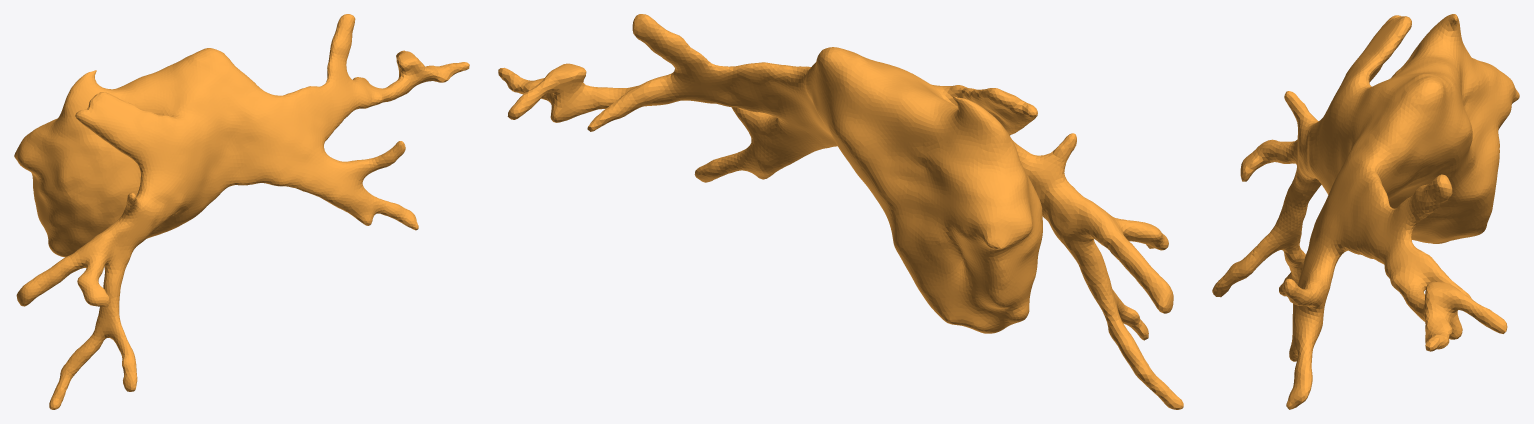
File: leftatriumWEBGL.glb
3 renders of one model, left to right at view 1: azimuth 30°, elevation 25°; view 2: azimuth 150°, elevation 25°; view 3: azimuth 270°, elevation 25°, orthographic. The views are drawn at different scales.
Parts seen in each view (by area): view 1: 2018001 Left Atrium; view 2: 2018001 Left Atrium; view 3: 2018001 Left Atrium.
Boxes of the visible parts, box(x1,y1,x2,y2) form: 2018001 Left Atrium: box(14, 14, 469, 409); 2018001 Left Atrium: box(498, 14, 1183, 409); 2018001 Left Atrium: box(1212, 14, 1519, 409).
Bounding box in the file's own units: 180 × 94.78 × 75.89.
